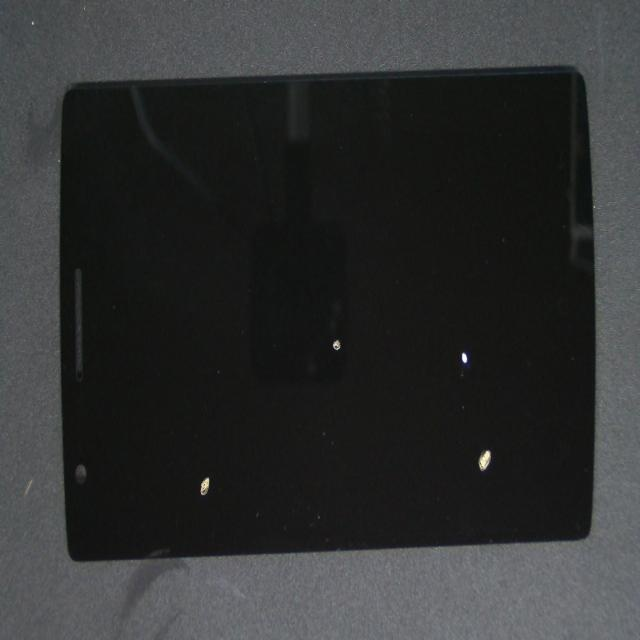stain: (256, 188, 640, 640), (242, 164, 640, 504), (180, 145, 496, 487), (106, 214, 294, 640)
